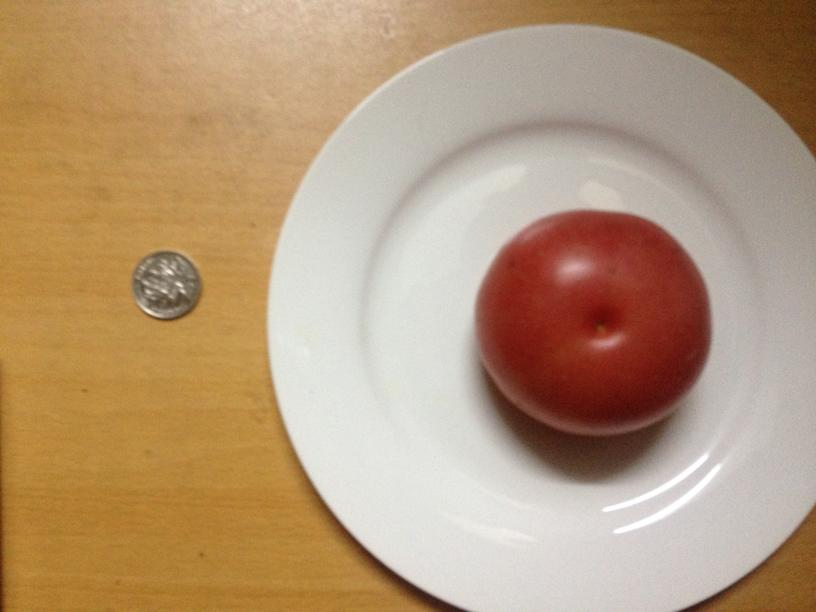coin: (131, 253, 203, 319)
tomato: (472, 210, 711, 433)
